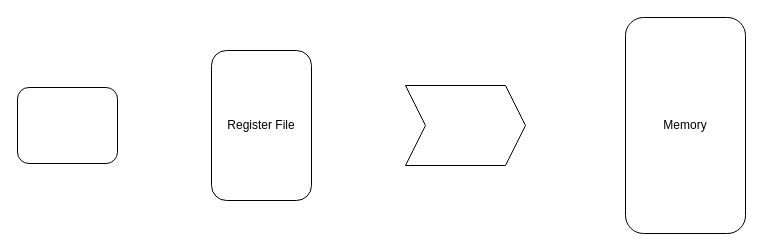
Some shapes in this 763 by 251 pixel diagram are drawn without their labels. The shapes that lost their labels are listed below. From the top down, each one's box as (x1, y1, x2, y2) in pixels, then its label:
(16, 86, 118, 164): Instruction Register
(404, 84, 526, 166): ULA
